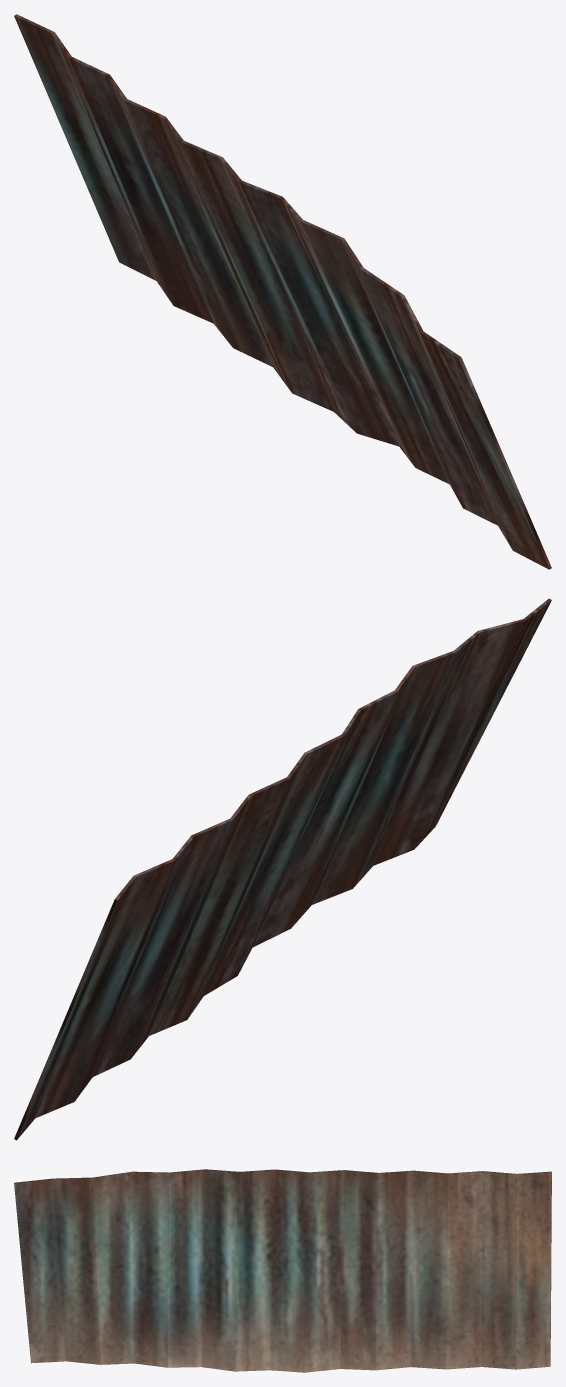
3 renders of one model, top to bottom at view 1: azimuth 30°, elevation 25°; view 2: azimuth 150°, elevation 25°; view 3: azimuth 270°, elevation 25°, orthographic. The views are drawn at different scales.
Visible parts, largest first — view 1: Object_82; view 2: Object_82; view 3: Object_82.
Part boxes in pixels (<box>): Object_82: <box>14,14,551,569</box>; Object_82: <box>14,598,551,1140</box>; Object_82: <box>14,1169,551,1372</box>.
Bounding box in the file's own units: 0.2872 × 0.5839 × 1.68.
1 material, 1 textured.
